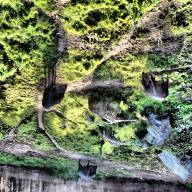boar: (42, 74, 68, 113), (141, 70, 169, 101), (78, 160, 97, 179)
